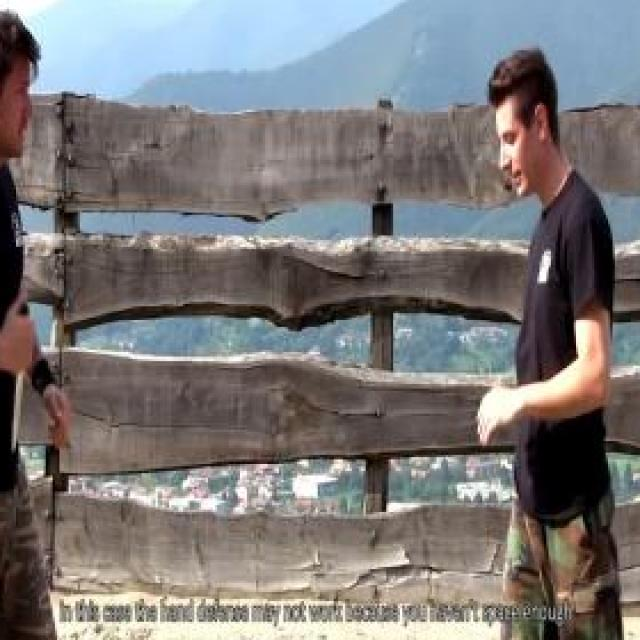knife: (4, 297, 39, 455)
